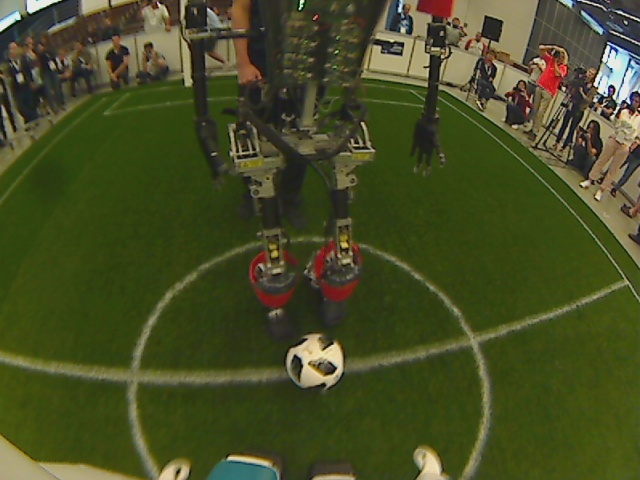ball: (283, 330, 348, 393)
